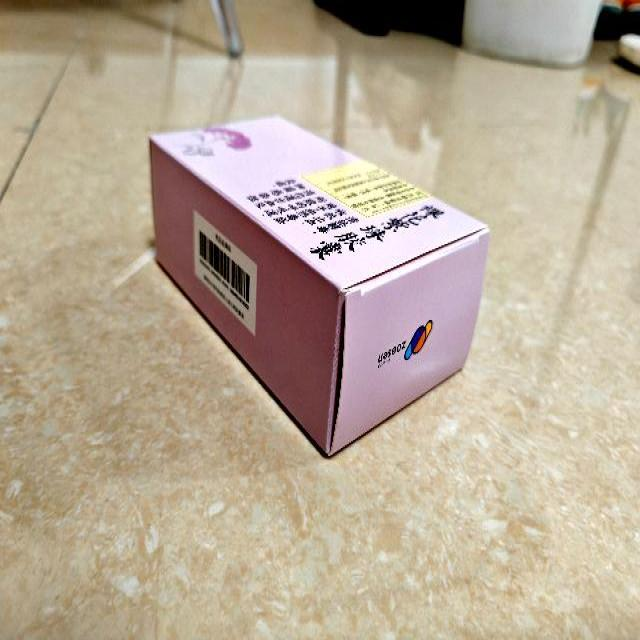box: (147, 115, 489, 458)
